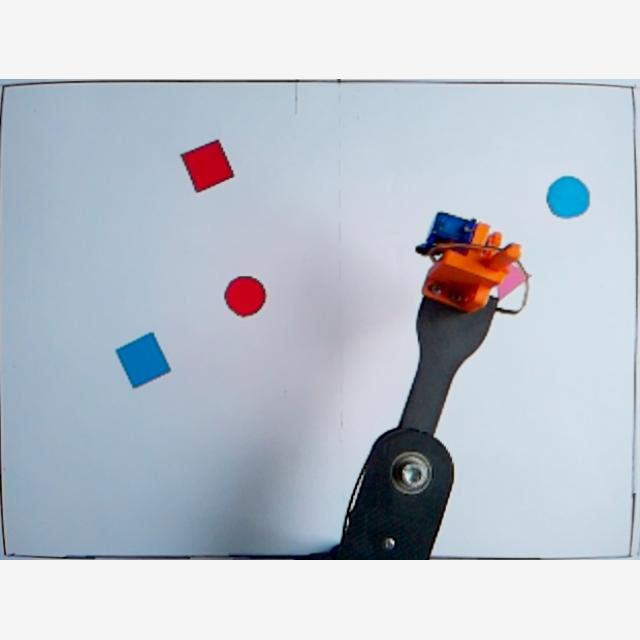blueCircle: (546, 175, 592, 223)
blueSquare: (116, 332, 172, 392)
pinkTriangle: (495, 259, 529, 303)
redCircle: (224, 274, 270, 322)
redSquare: (182, 139, 234, 195)
